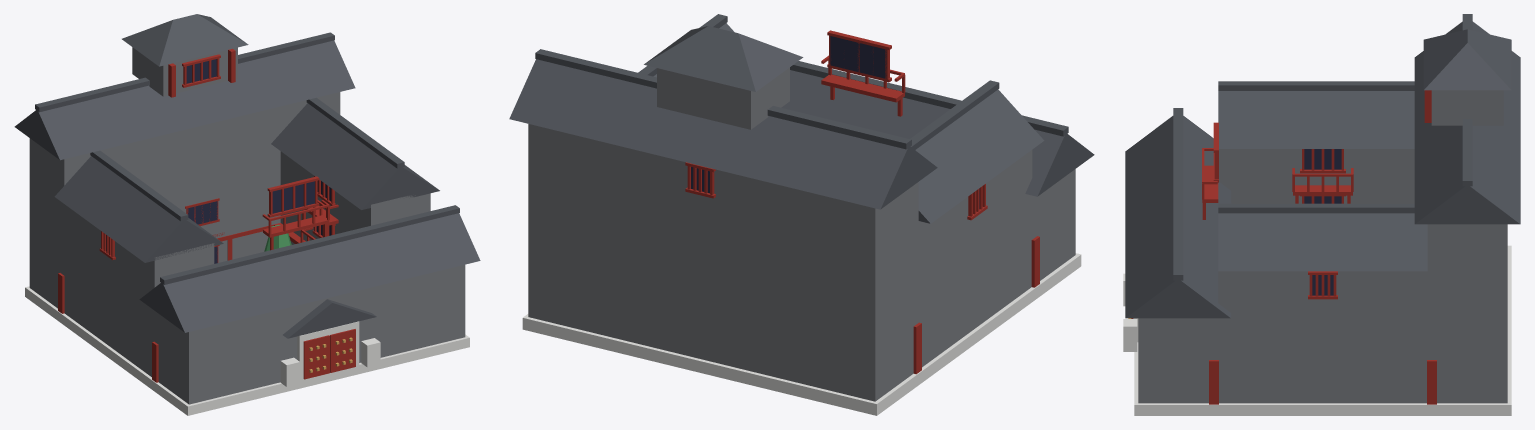
The model's file is house-2x2-5f-siheyuan-a.glb.
3 views of the same model, side by side, from view 1: azimuth 30°, elevation 25°; view 2: azimuth 150°, elevation 25°; view 3: azimuth 270°, elevation 25° (orthographic). The views are drawn at different scales.
Visible parts, largest first — view 1: house-2x2-5f-siheyuan-a; view 2: house-2x2-5f-siheyuan-a; view 3: house-2x2-5f-siheyuan-a.
Part boxes in pixels (box(x1,y1,x2,y2)): house-2x2-5f-siheyuan-a: box(14, 14, 480, 415); house-2x2-5f-siheyuan-a: box(509, 14, 1094, 415); house-2x2-5f-siheyuan-a: box(1123, 14, 1520, 415).
Size of the model in its own units: 1.98 by 1.66 by 1.99.
1 material, 1 textured.
